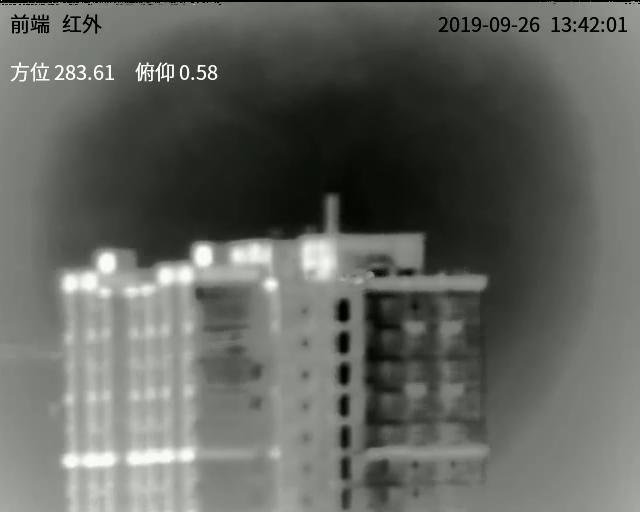uav: (335, 268, 377, 296)
